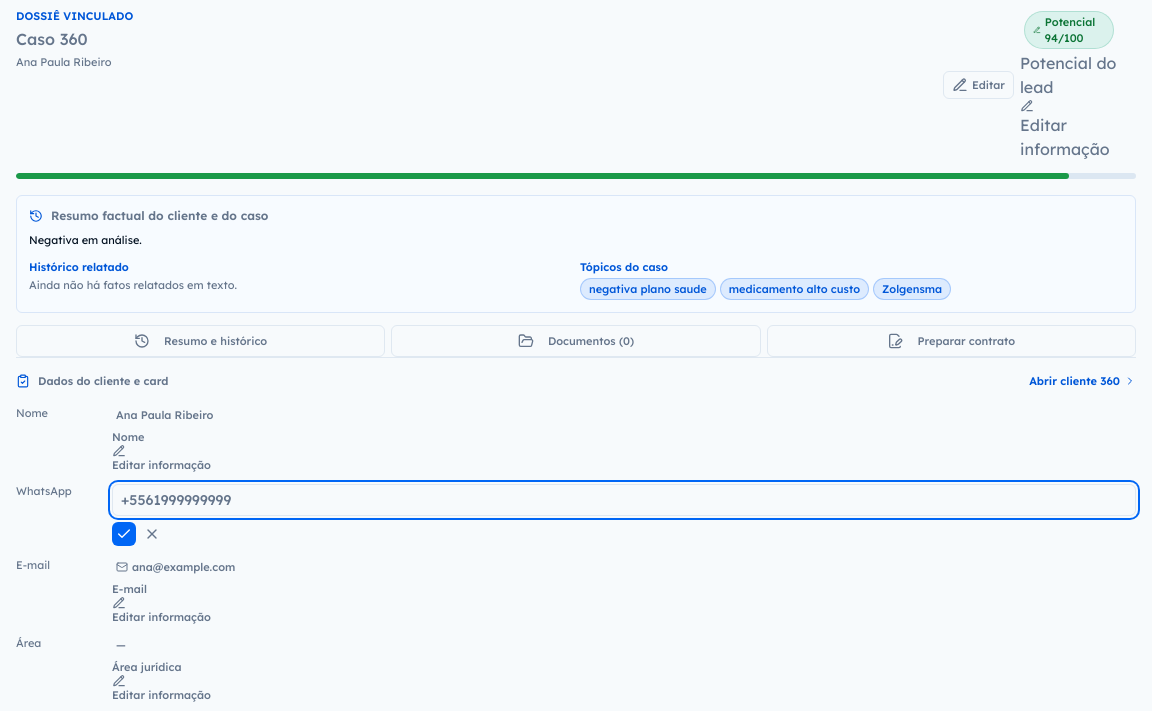
Test case: Case 360 contextual editing › persists a field through the real Case 360 API contract and renders its revision
The width and height of the screenshot is (1152, 711).
Earlier steps of the test are not shown.
Replace the text in the field named "WhatsApp" with "+5511987654321": (624, 500) [112,484,1136,516]
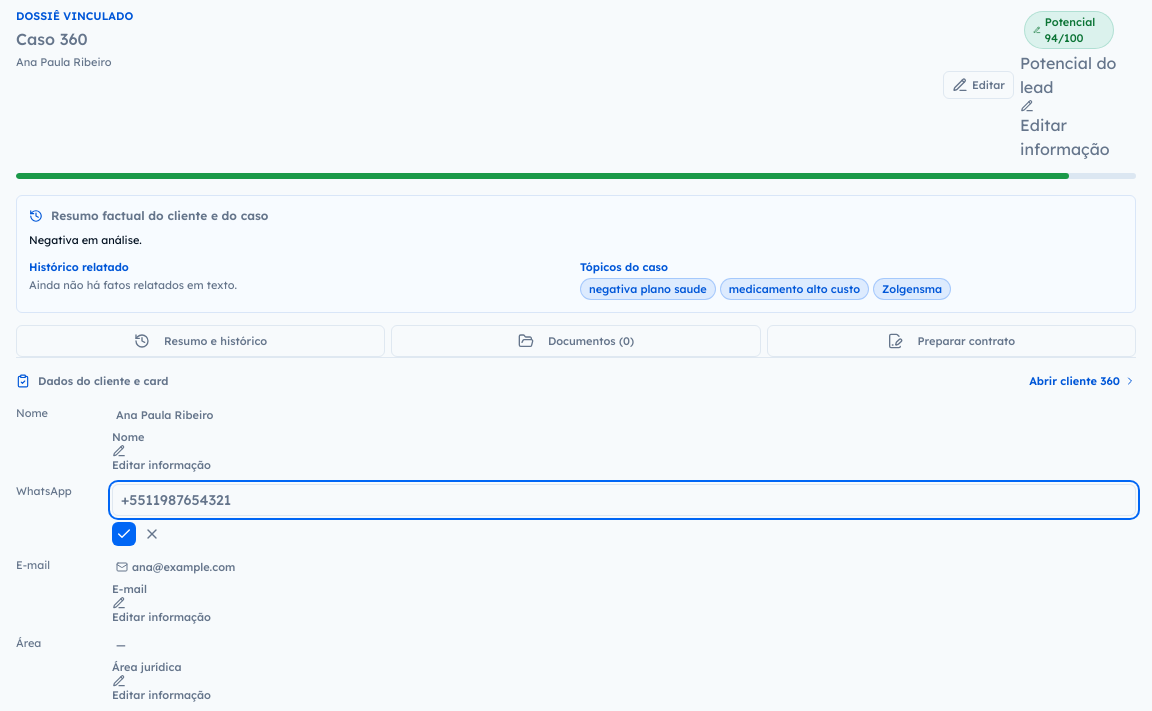
Click the button named "Salvar WhatsApp": (124, 534) [112,522,136,546]
(page scrolled)
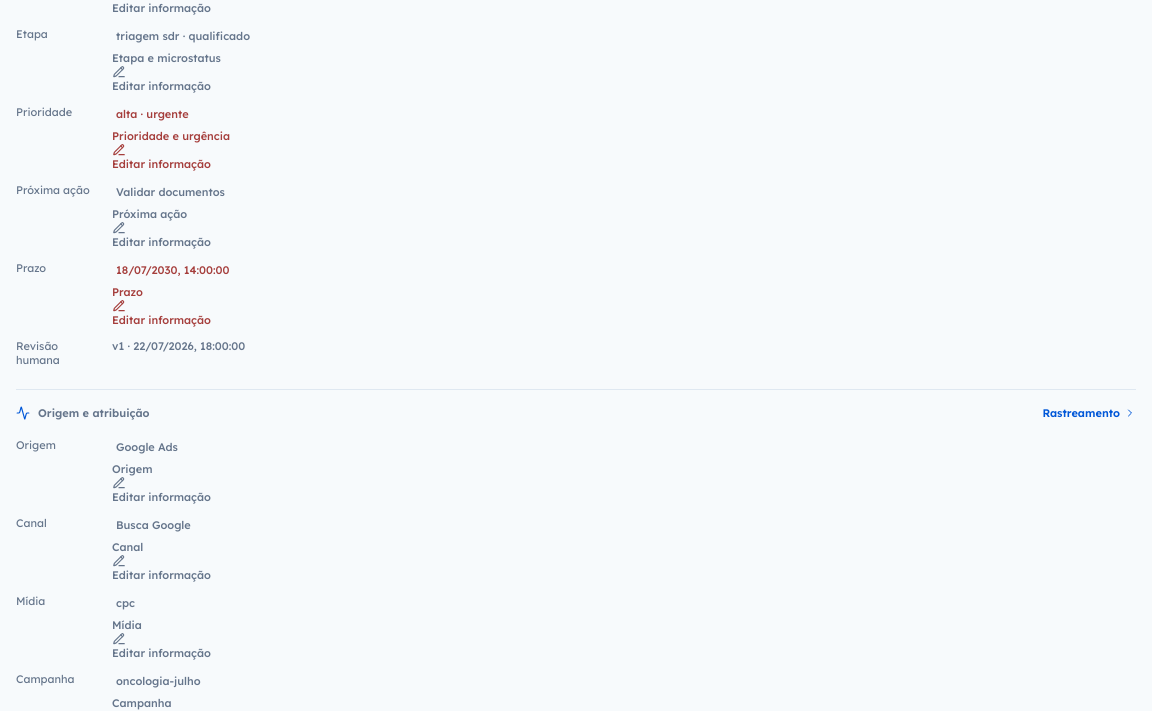
Result: the text "v1 · 22/07/2026, 18:00:00" is shown at [112,339,245,353]
